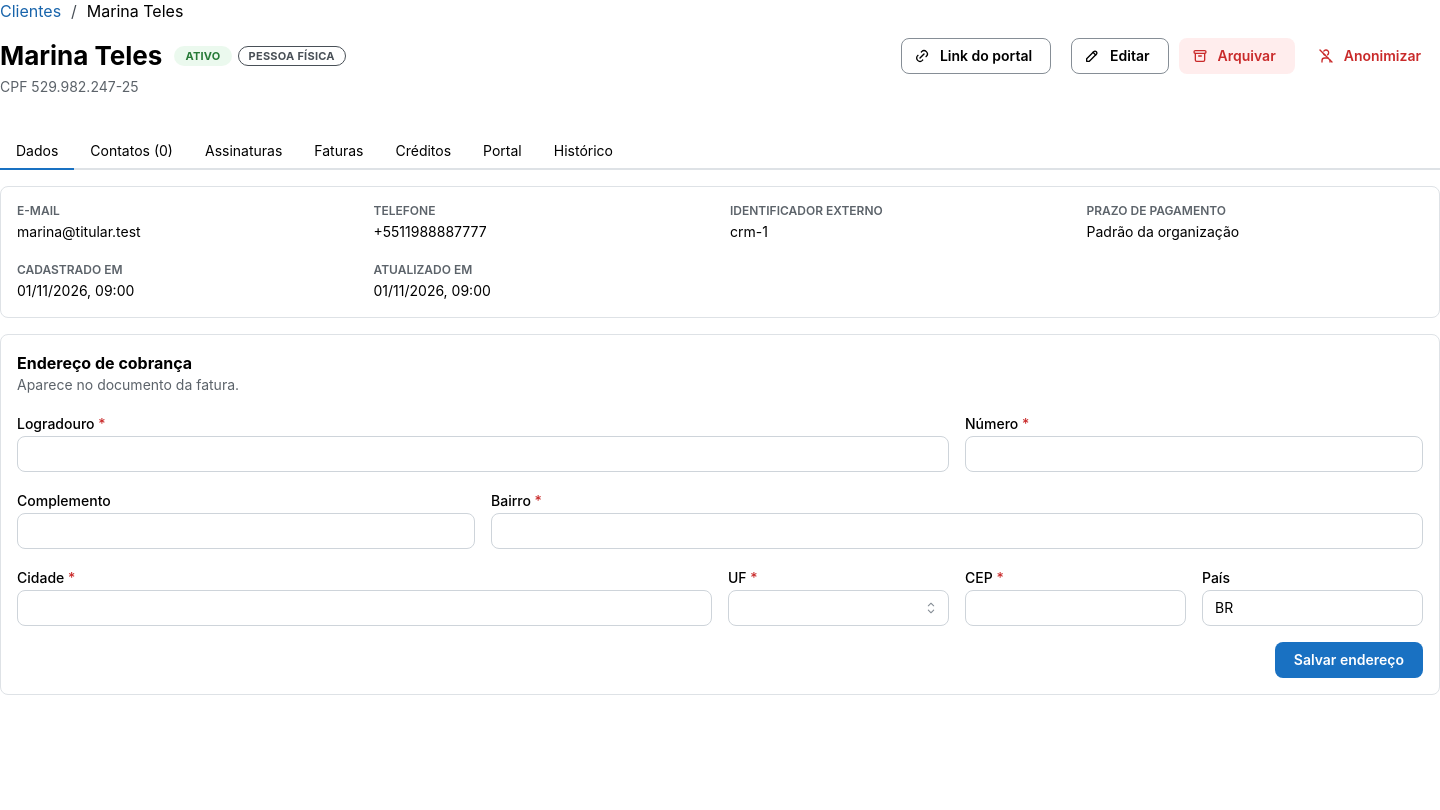
Test case: anonimização de cliente › repetição depois de resposta perdida reutiliza a chave e mostra os identificadores devolvidos de novo
The image size is (1440, 810).
Click the button "Anonimizar" at coordinates (1372, 56), box [1305, 38, 1439, 74]
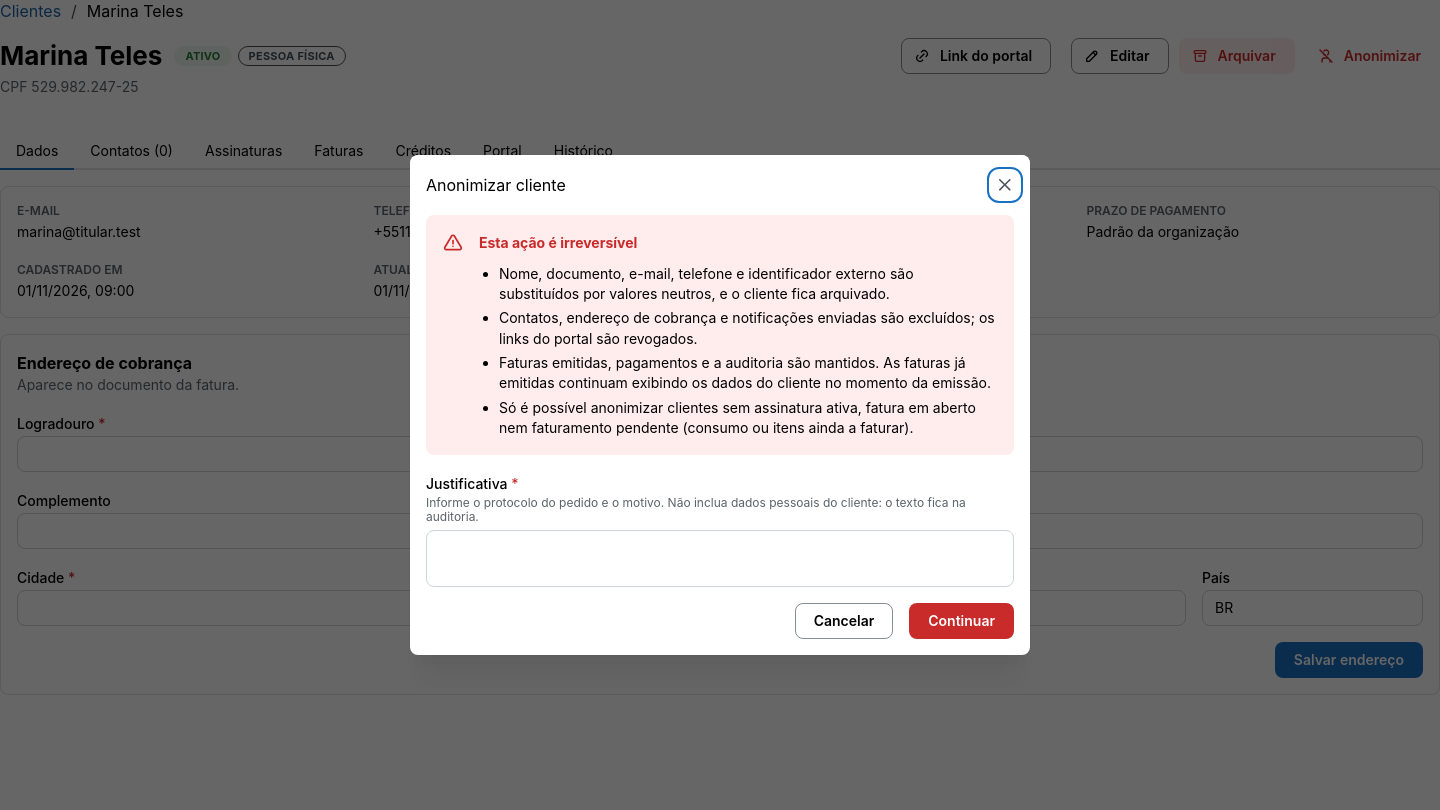
Type "Pedido de eliminação, protocolo 2026/0042" into the text box labelled "Justificativa *" at coordinates (720, 558), box [426, 530, 1014, 587]
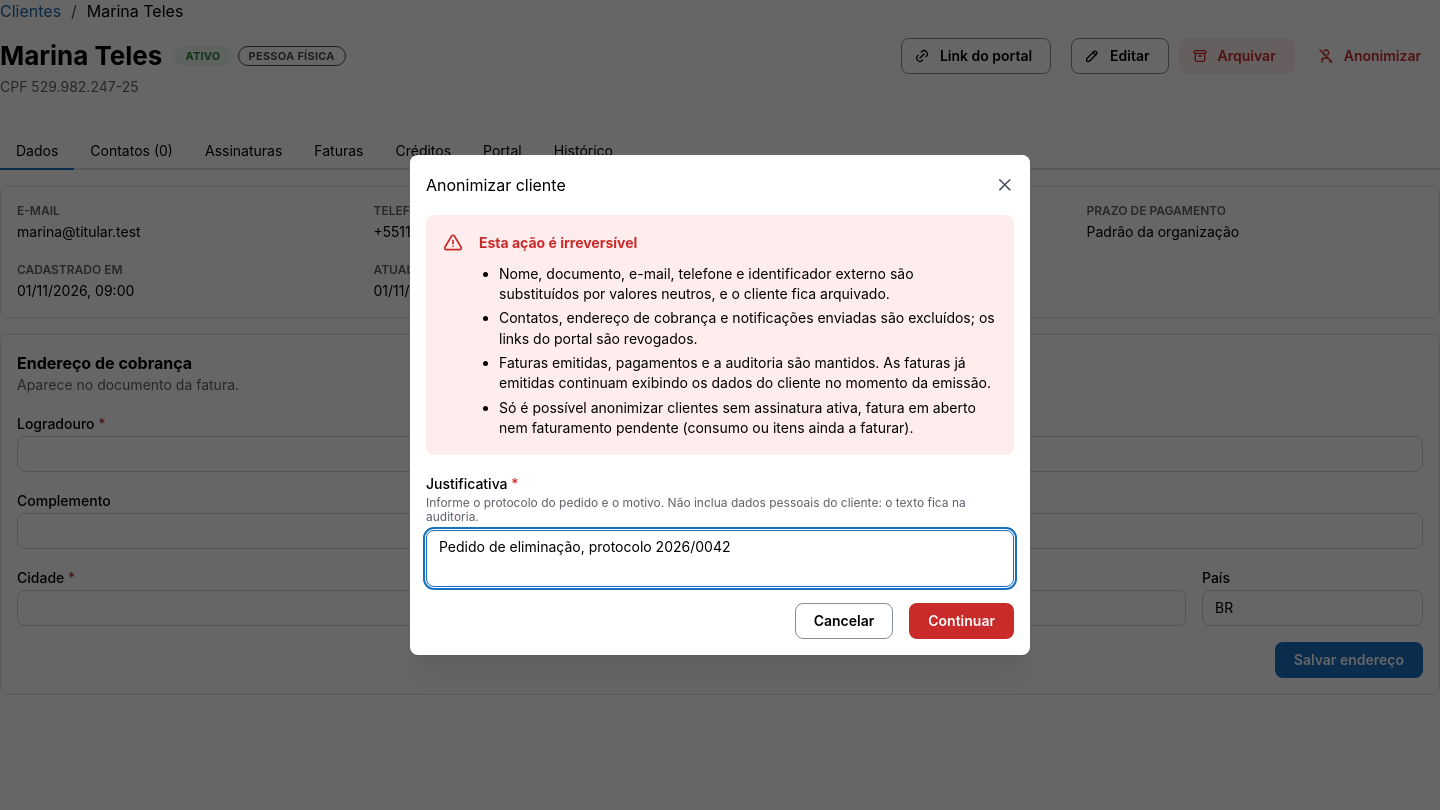
Click the button "Continuar" at coordinates (962, 621), box [909, 603, 1014, 639]
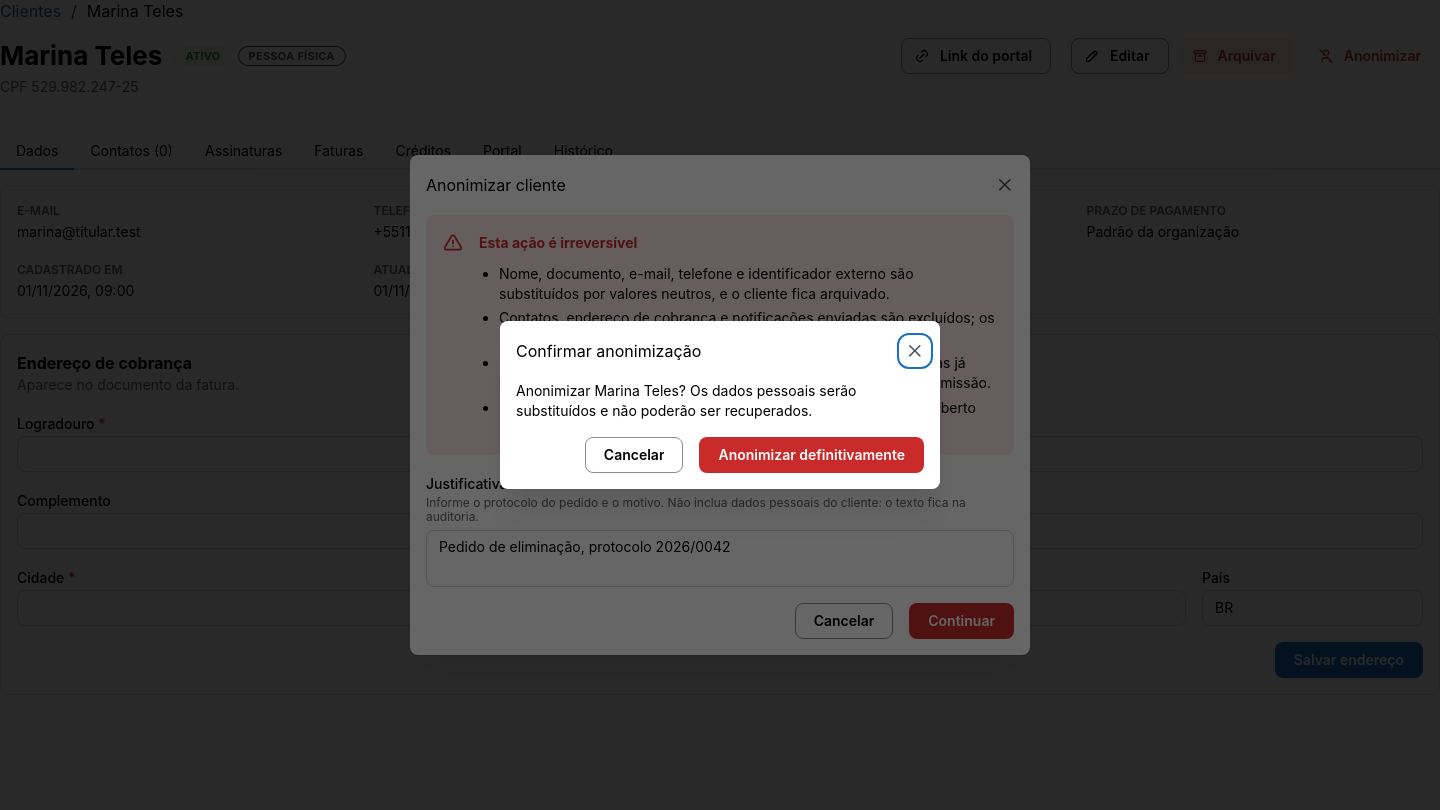
Click the button "Anonimizar definitivamente" at coordinates (812, 455), box [700, 437, 924, 473]
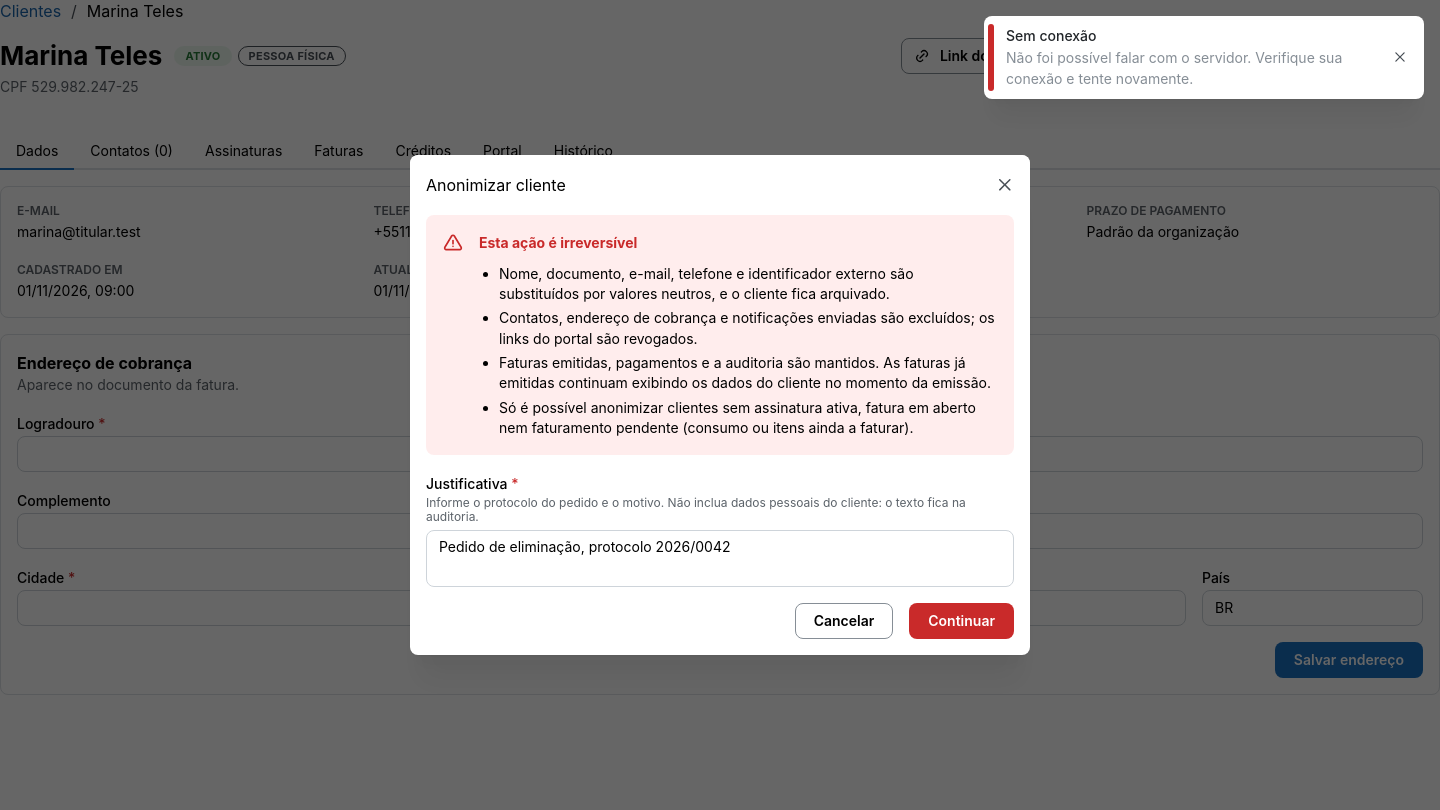
Expected: the dialog "Cliente anonimizado" is not shown
Click the button "Continuar" at coordinates (962, 621), box [909, 603, 1014, 639]
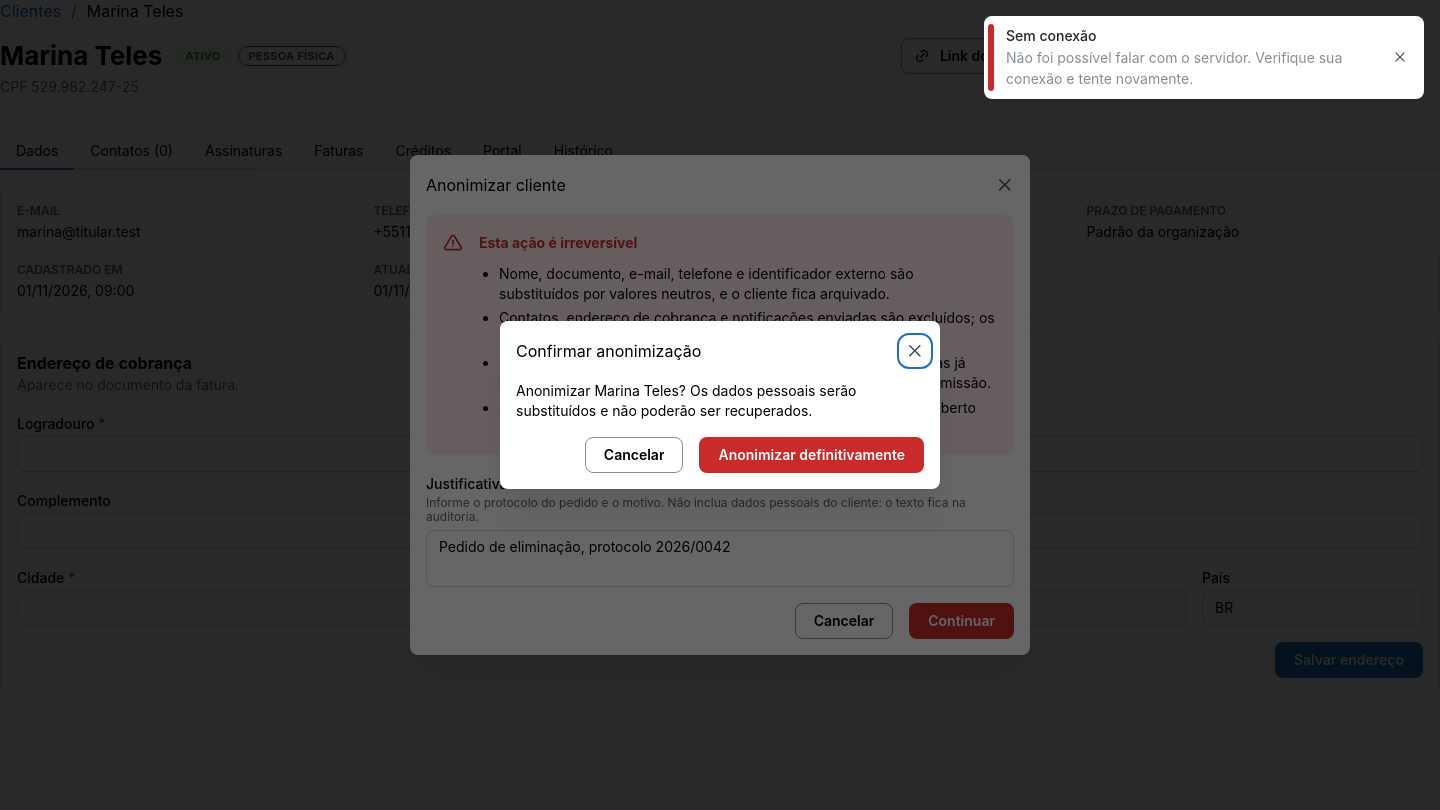
Click the button "Anonimizar definitivamente" at coordinates (812, 455), box [700, 437, 924, 473]
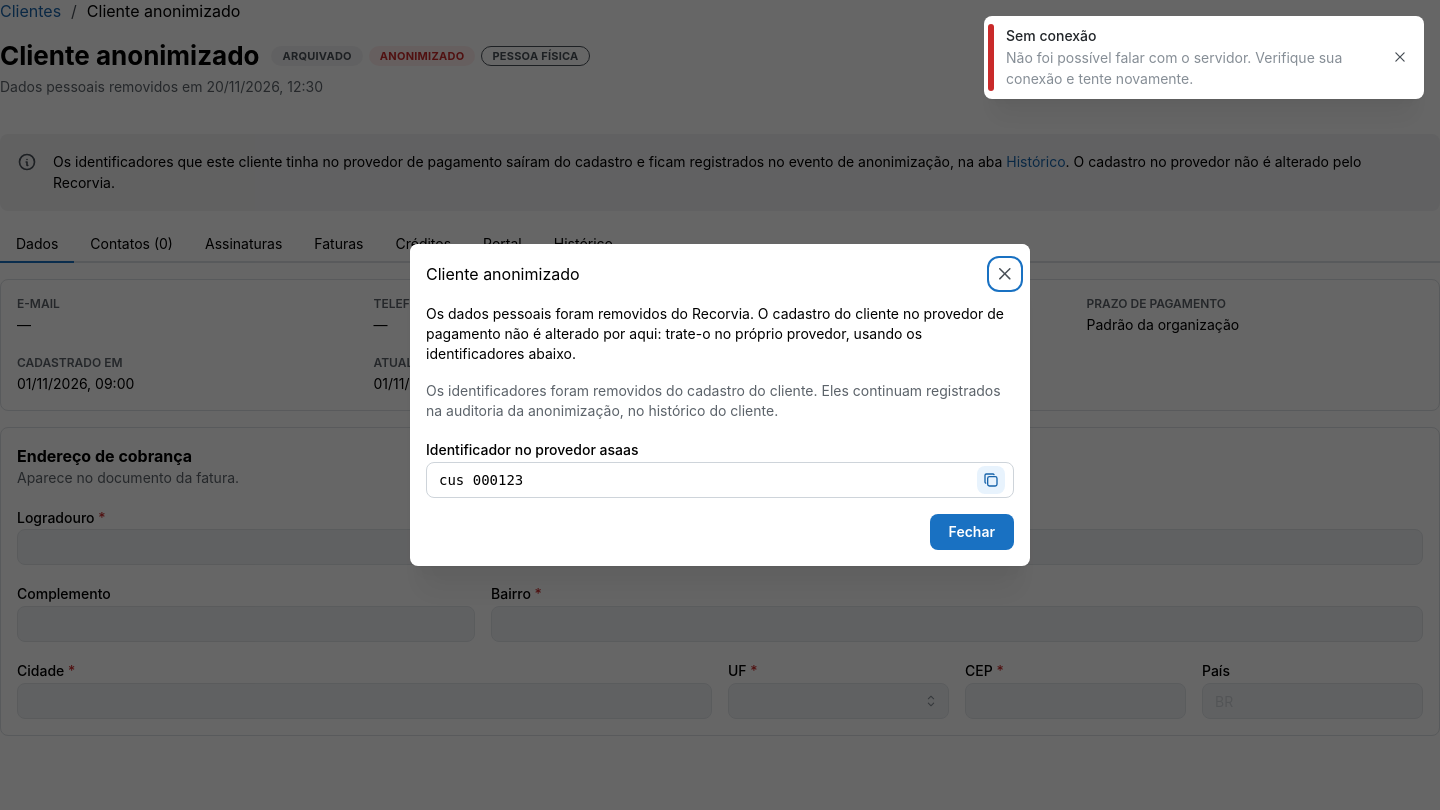
Now the field labelled "Identificador no provedor asaas" holds "cus_000123", box [426, 462, 1014, 498]
Now the text "Dados pessoais removidos em 20/11/2026, 12:30" is shown, box [0, 78, 323, 96]
Now the dialog "Cliente anonimizado" is shown, box [410, 244, 1030, 566]
